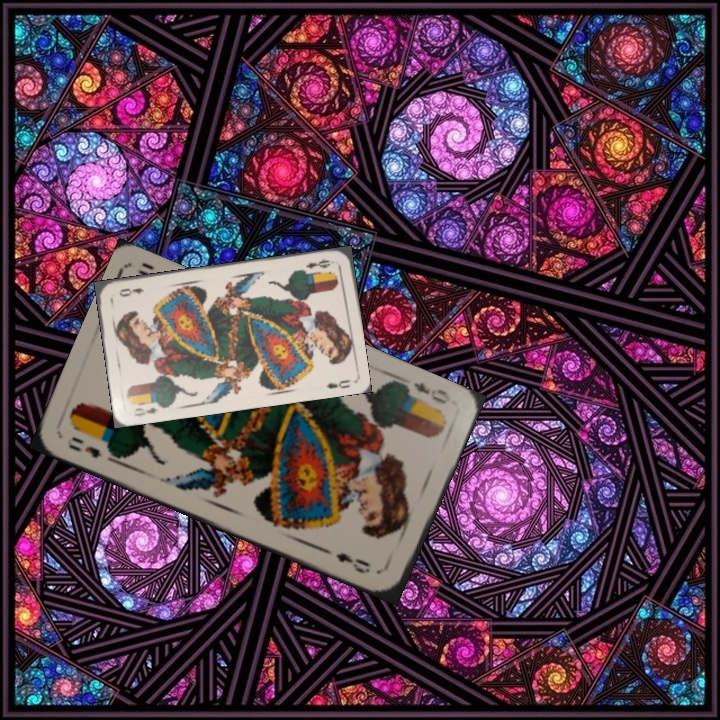EO: (64, 432, 117, 464), (409, 378, 453, 407), (302, 255, 337, 271), (131, 403, 161, 419)
